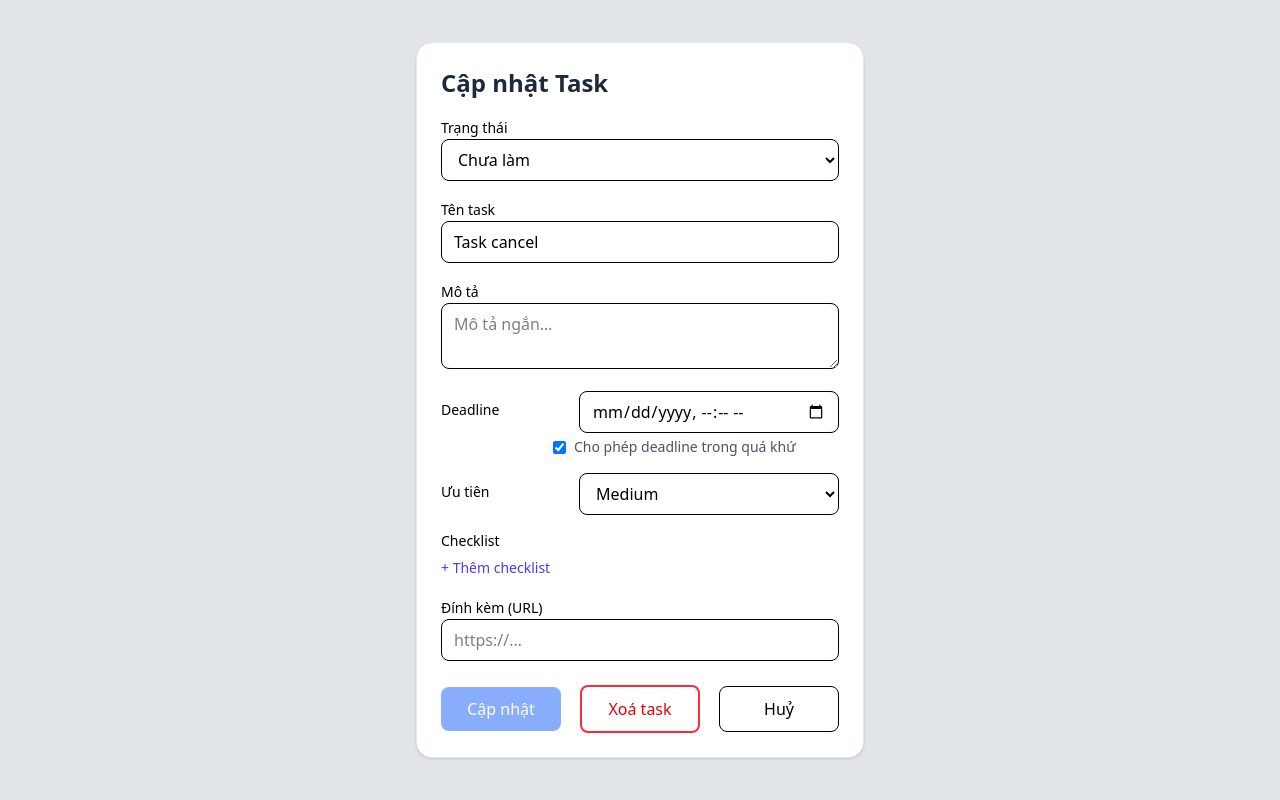
Test case: UpdateTask › ConfirmDialog: nhấn Hủy sẽ đóng dialog và không thực hiện hành động
In the field with placeholder "Nhập tên task…": coordinates (640, 242) [441,221,839,263], type " dirty"
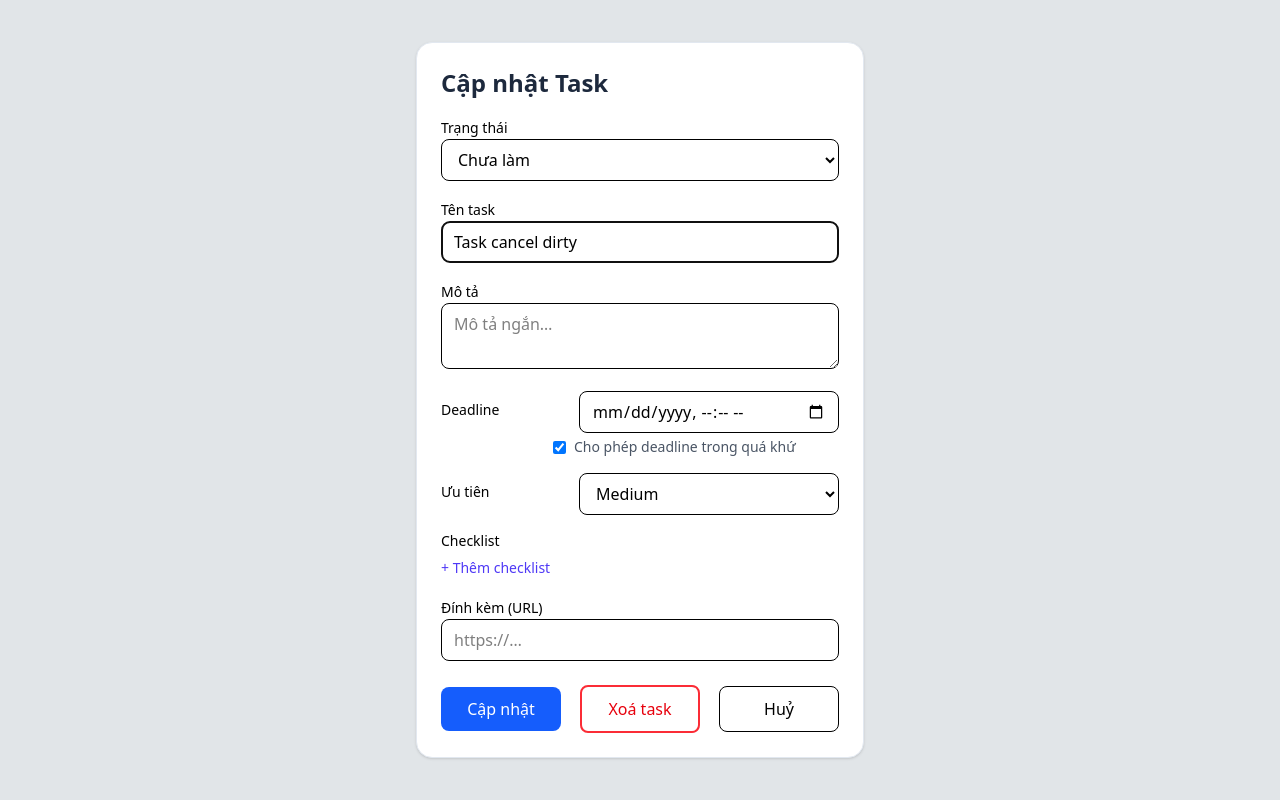
Click the button "Cập nhật": coordinates (501, 709) [441,687,561,731]
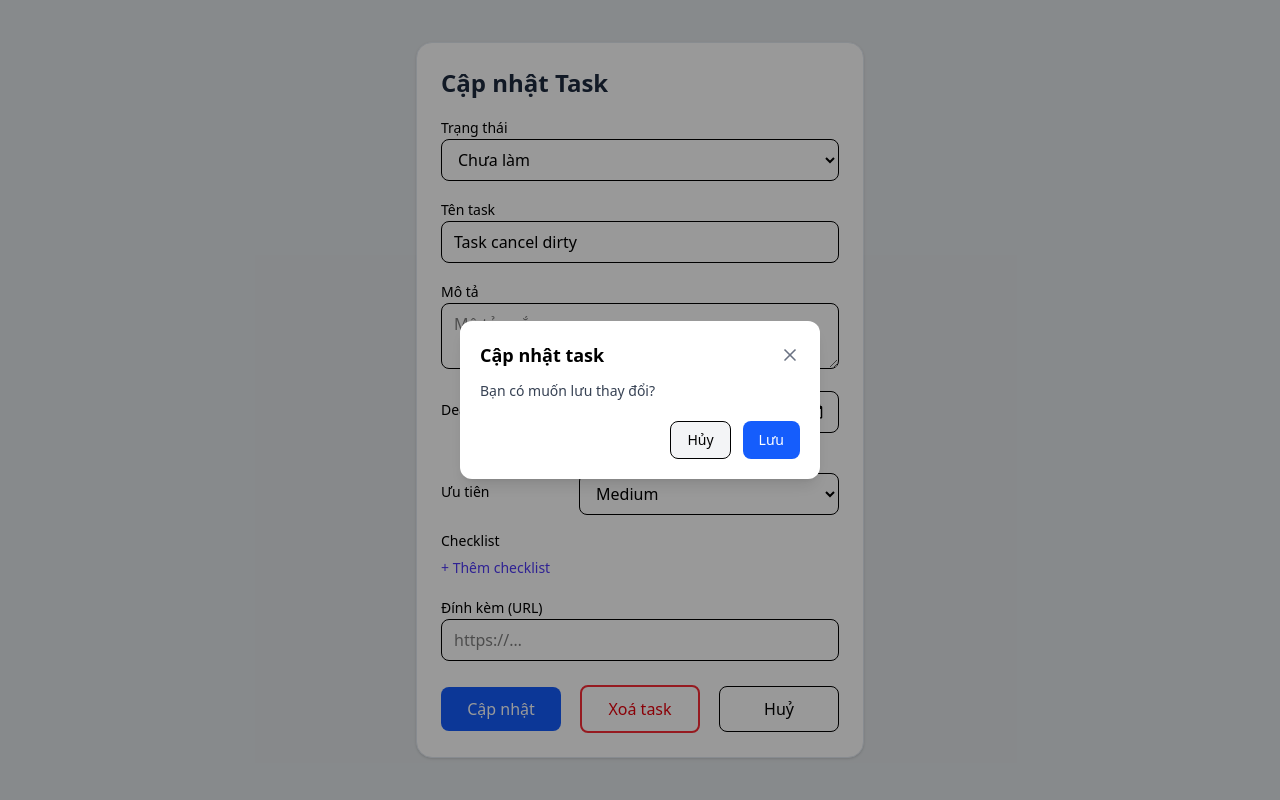
Click the button "Hủy": coordinates (700, 440) [670,421,731,459]
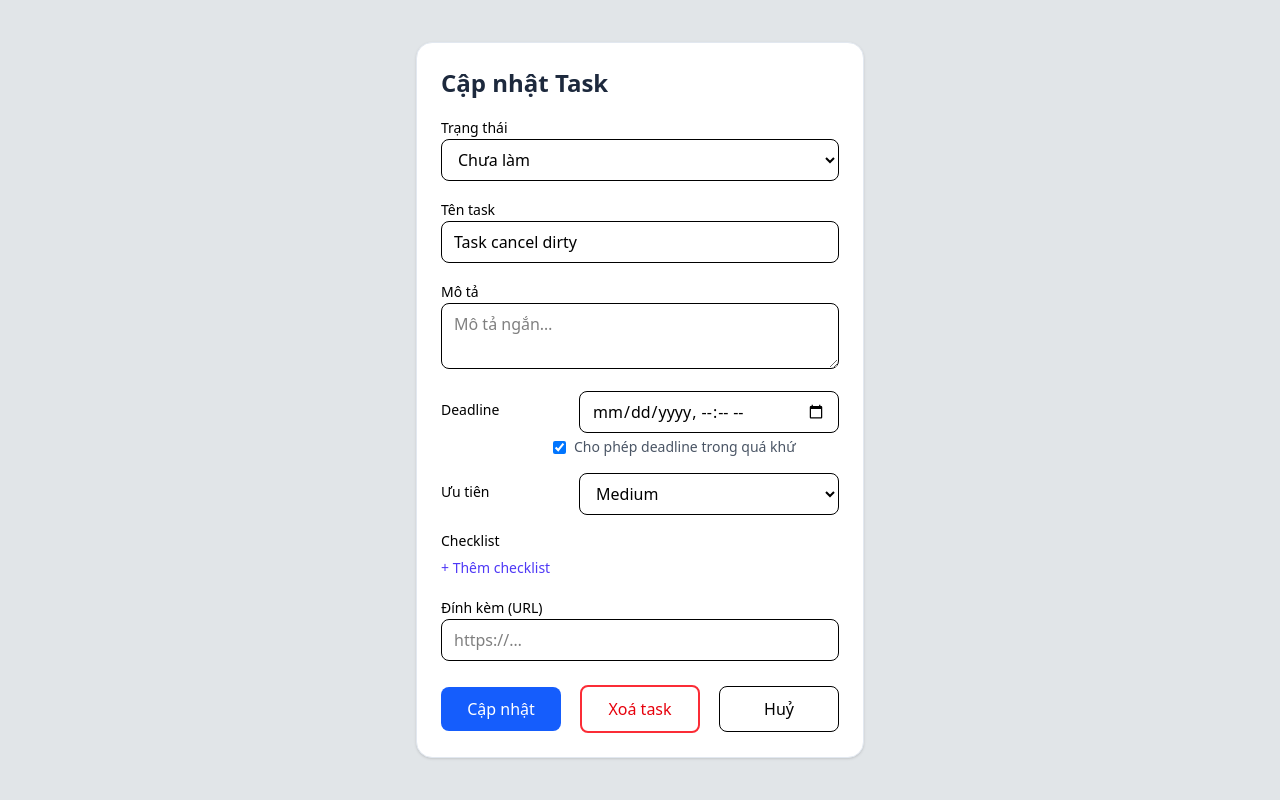
Expected: the dialog is gone
